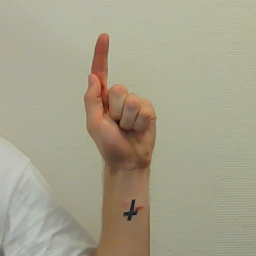F: (80, 32, 160, 167)
